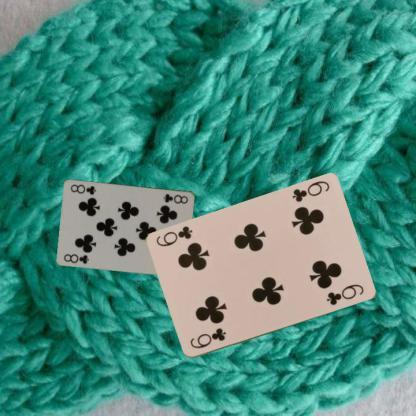6c: (288, 178, 330, 204), (187, 325, 227, 350)
8c: (160, 190, 190, 204), (61, 251, 90, 265)
